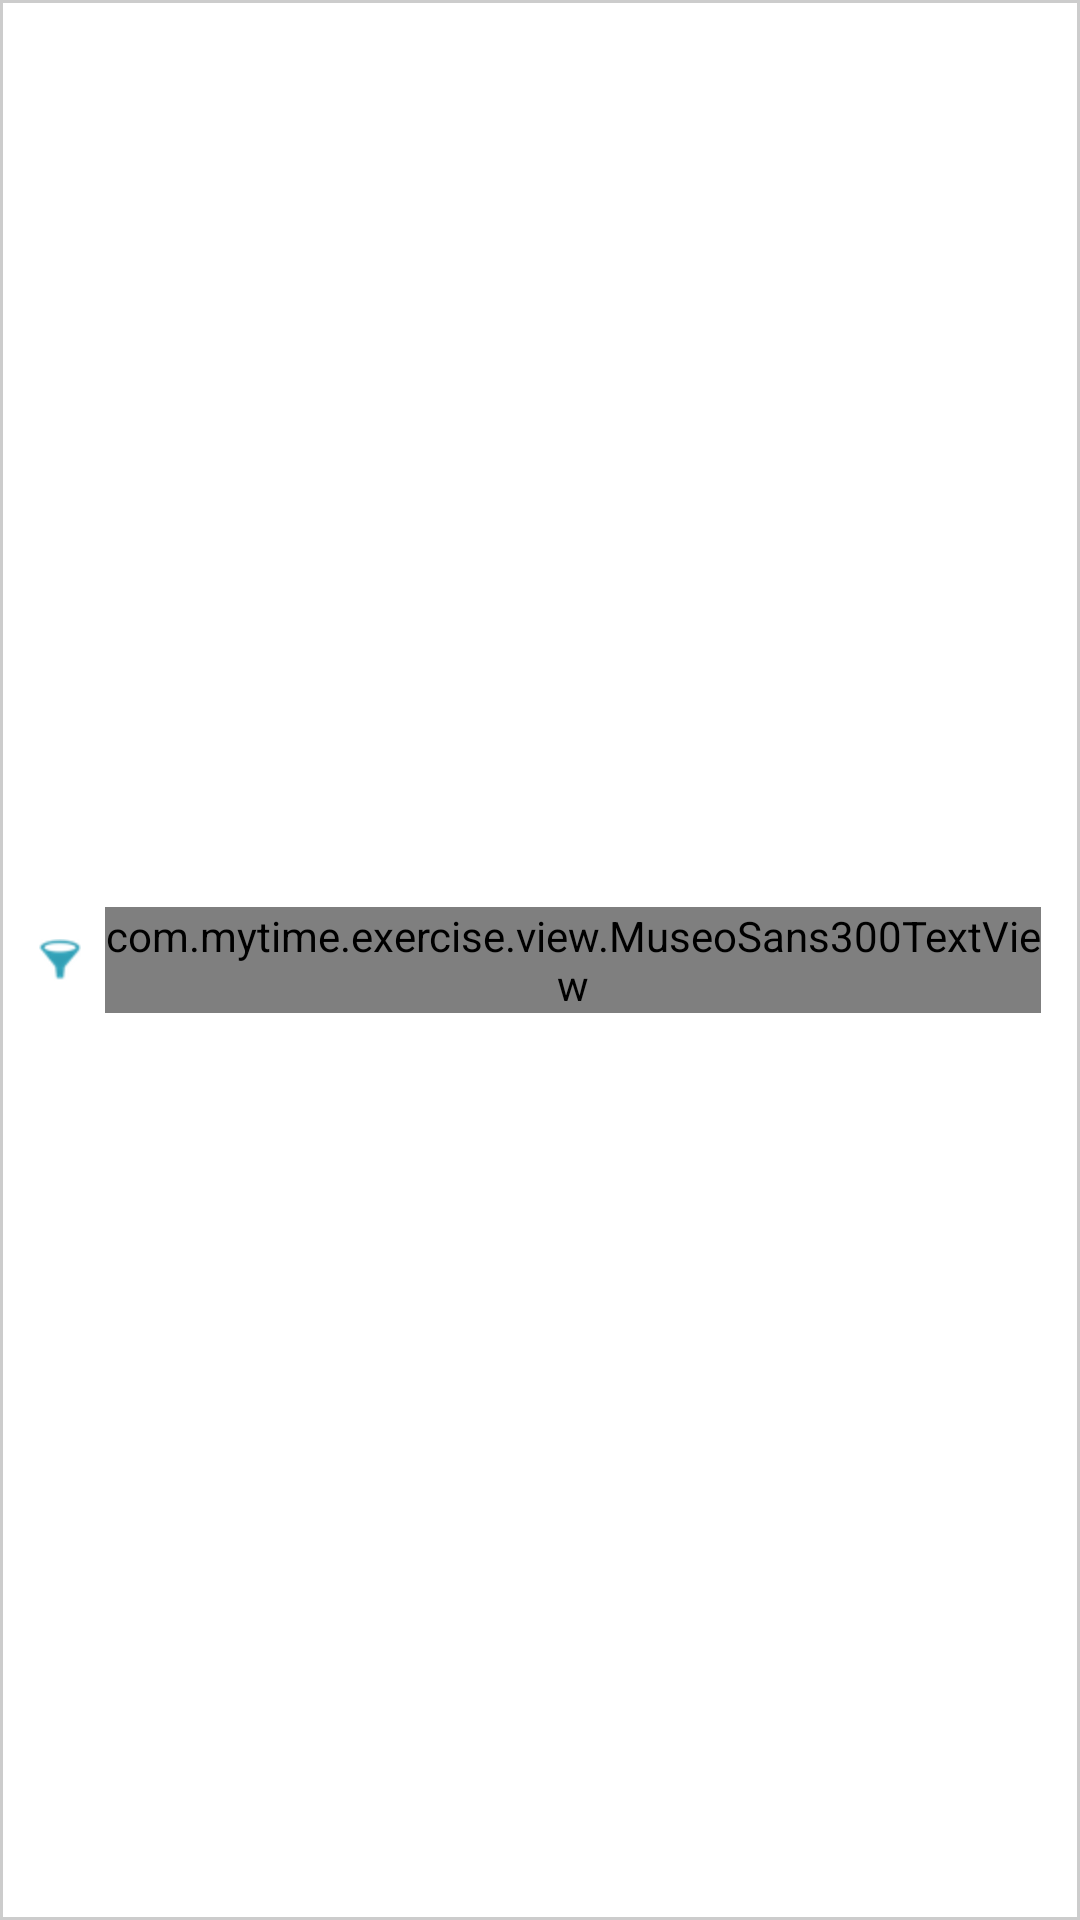

Named icons in this screenshot (1080 × 1920) and their centers, point (x, y):
filter: point (60, 959)
